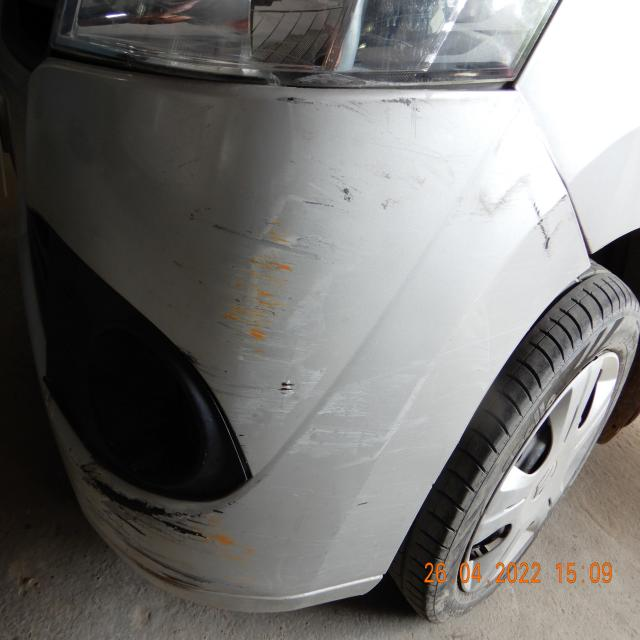damage: (78, 468, 219, 603), (272, 91, 425, 121)
